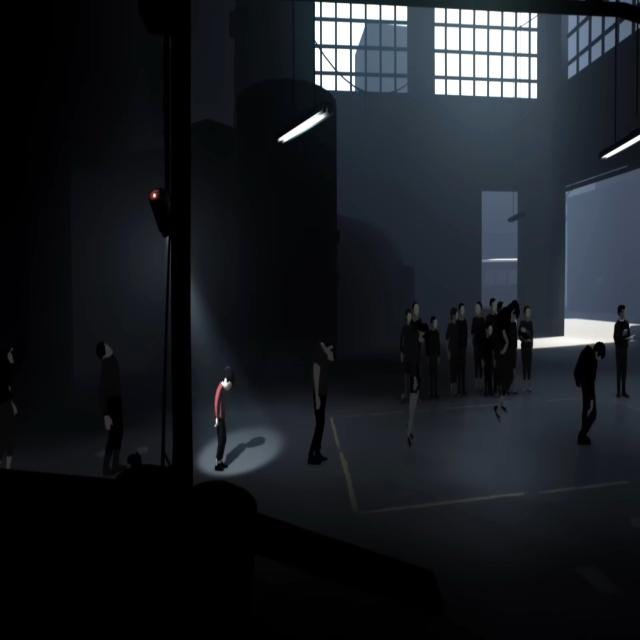boy: (214, 366, 235, 471)
human: (613, 305, 636, 398), (445, 307, 460, 398), (518, 306, 533, 393), (471, 301, 484, 392), (400, 308, 412, 399), (429, 316, 440, 400), (481, 322, 493, 397), (458, 303, 467, 396), (486, 298, 497, 322), (412, 301, 422, 323)
zombie: (96, 340, 127, 476), (307, 340, 337, 466), (574, 342, 606, 446), (494, 300, 520, 425), (406, 324, 429, 448), (0, 344, 18, 469)
